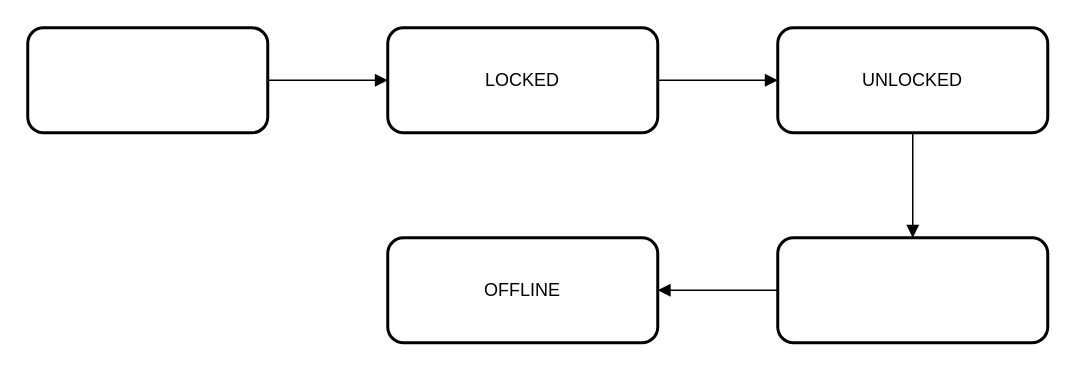
Some shapes in this 1074 by 369 pixel diagram are drawn without their labels. The shapes that lost their labels are listed below. From the top down, each one's box as (x1, y1, x2, y2) in pixels, then its label:
(26, 26, 268, 134): BOOT
(776, 236, 1048, 344): AUTO-LOCK
